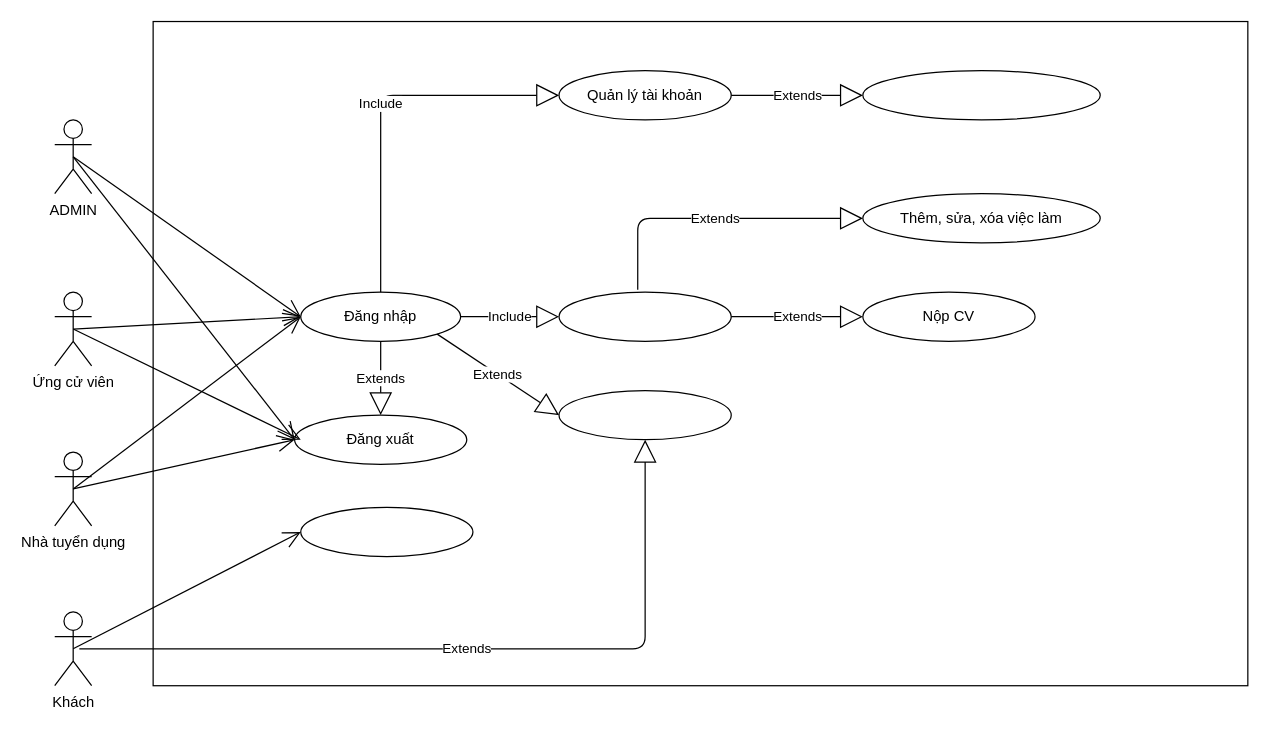
Some shapes in this 1269 by 733 pixel diagram are drawn without their labels. The centre of each missing label's shape, as x and y in pixels:
"Quản lý viêc làm" belongs at pixel 644 316.
"Thêm, sửa, xóa tài khoản" belongs at pixel 981 94.
"Tìm kiếm thông tin" belongs at pixel 644 414.
"Đăng ký" belongs at pixel 386 531.
